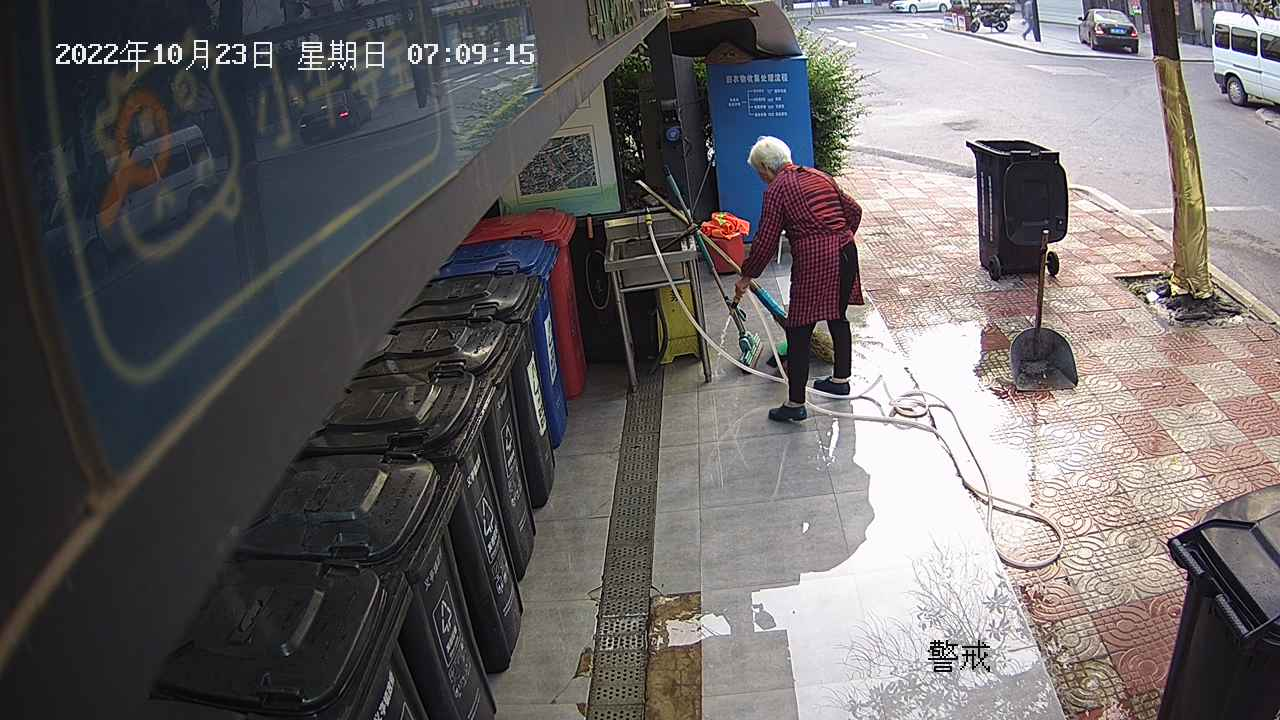person: (730, 130, 871, 426)
